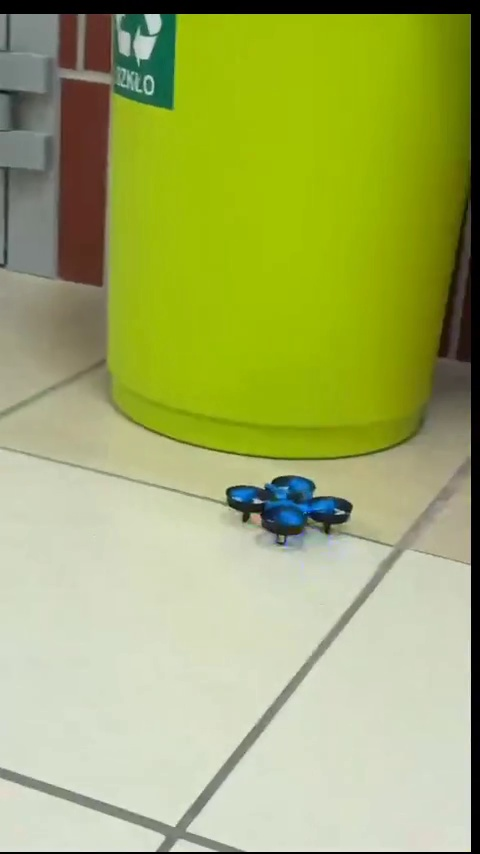drone: (224, 471, 350, 543)
